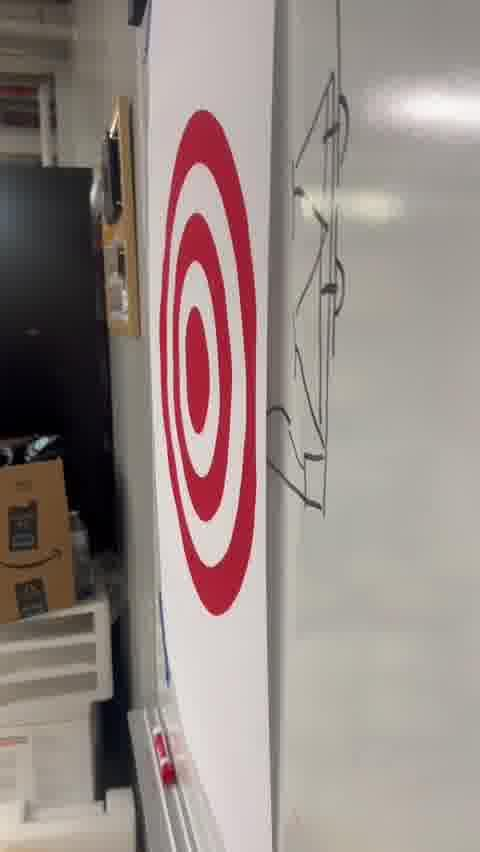target_red: (158, 111, 259, 617)
